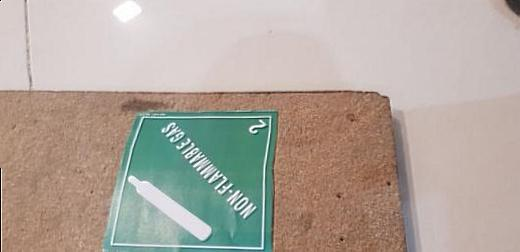non-flammable-gas: (101, 110, 280, 252)
